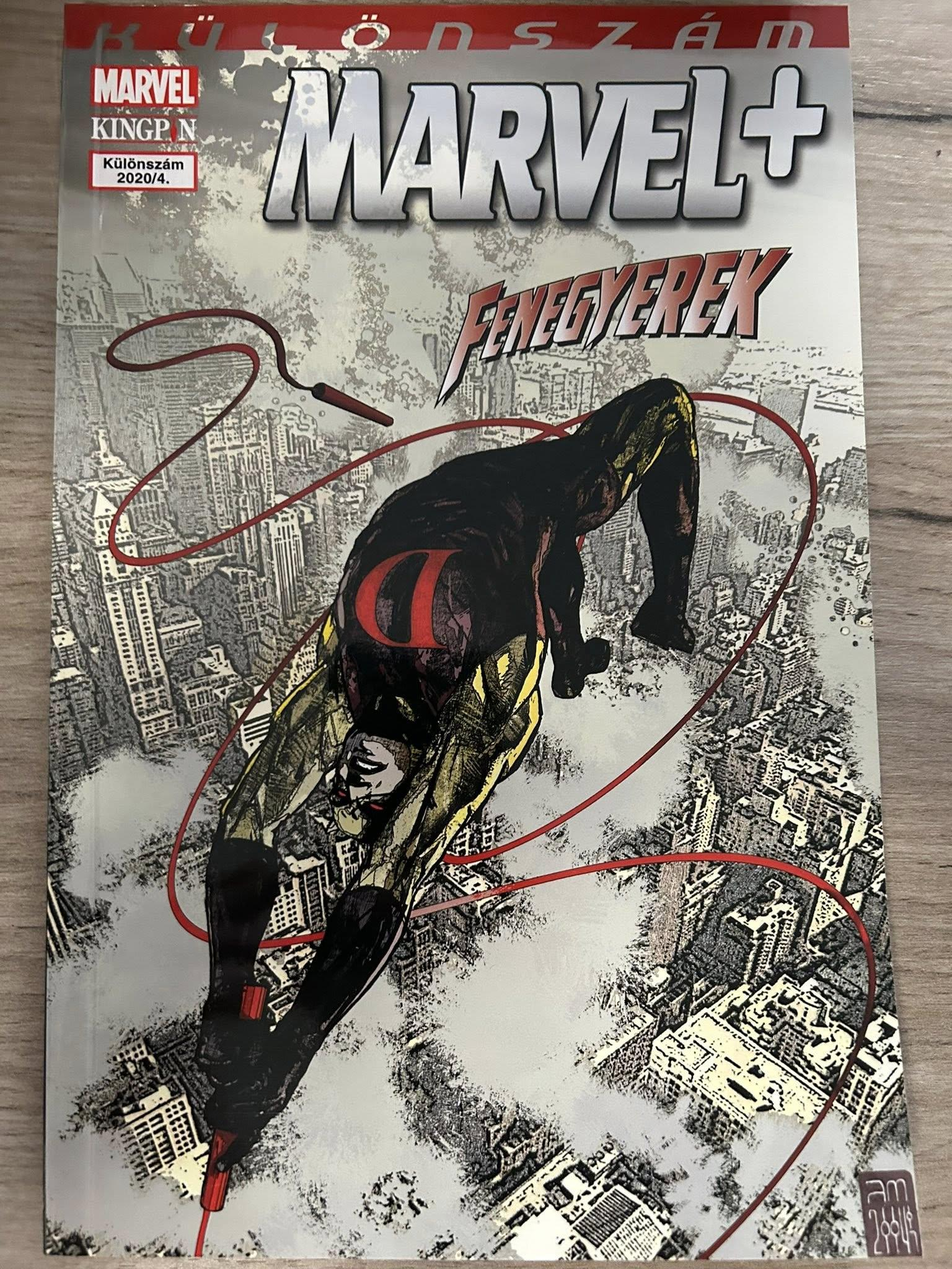comic: (46, 4, 920, 1260)
